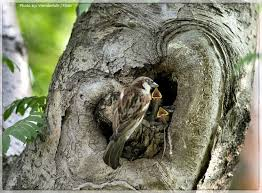home_sparrow: (109, 69, 156, 169)
